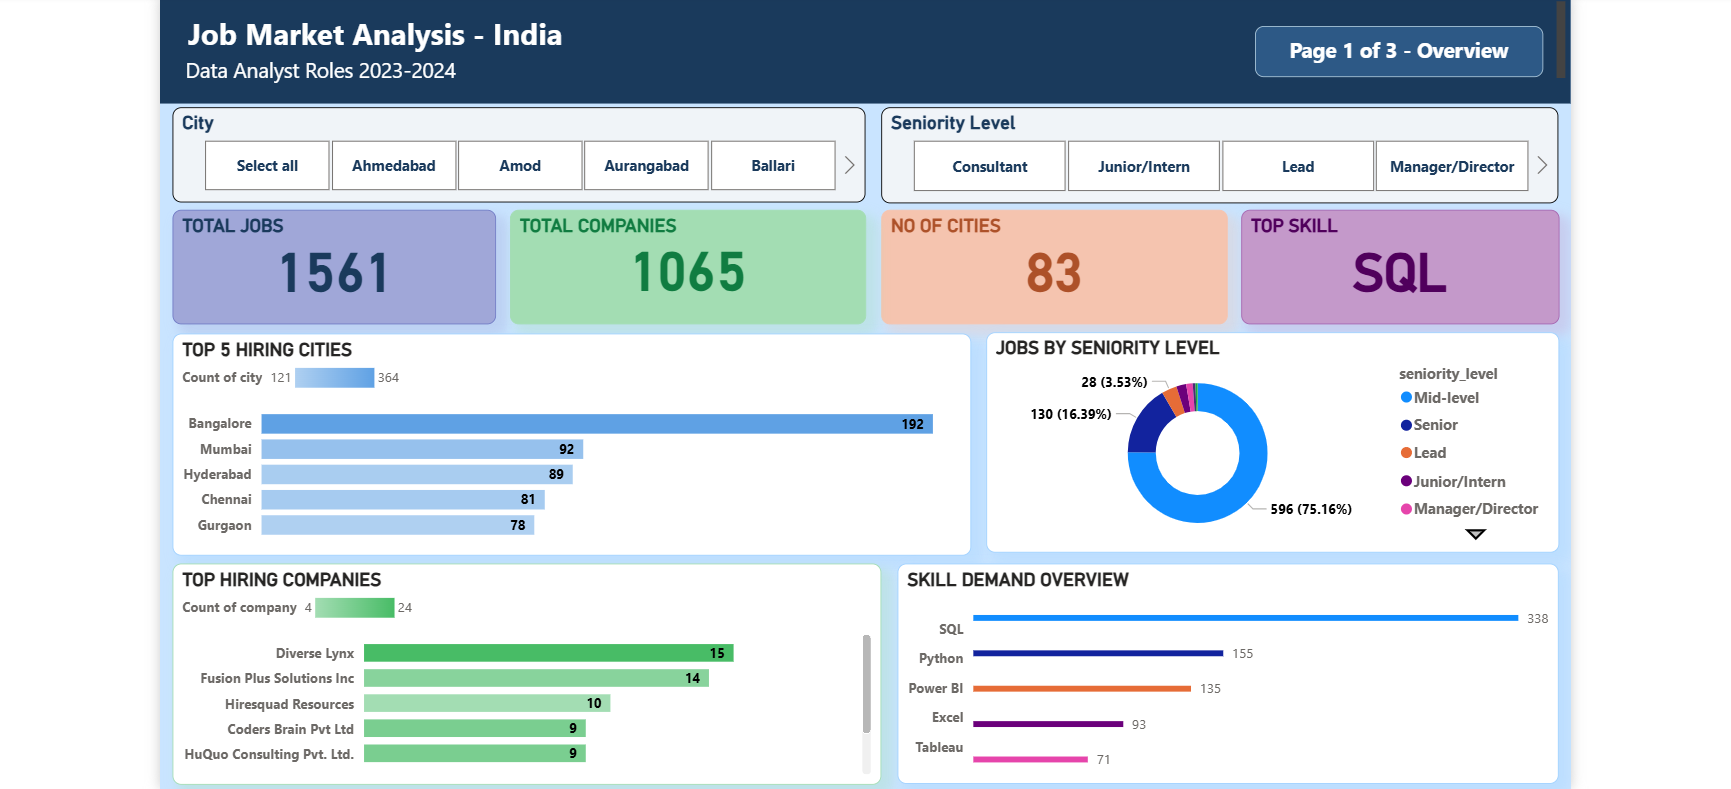

What the dashboard file says about the page in this screenshot:
{"tool":"powerbi","page":{"name":"Overview","canvas":[1280,720],"ordinal":0},"visuals":[{"type":"textbox","box":[0,0,1280,97.3],"z":0,"group":"g1"},{"type":"card","title":"TOTAL JOBS","fields":{"Values":["jobs.Total Jobs"]},"box":[11.7,193.8,294,104.1],"z":1000},{"type":"card","title":"NO OF CITIES","fields":{"Values":["jobs.Total Cities"]},"box":[654.3,193.8,314.8,104.1],"z":2000},{"type":"card","title":"TOTAL COMPANIES","fields":{"Values":["jobs.Total Companies"]},"box":[317.1,194.1,323.4,104],"z":3000},{"type":"card","title":"TOP SKILL ","fields":{"Values":["jobs.Top Skill"]},"box":[980.8,193.8,288.8,104.1],"z":4000},{"type":"slicer","title":"City","fields":{"Values":["jobs.city"]},"box":[11.4,101.5,629.1,86.2],"z":5000},{"type":"clusteredBarChart","title":"TOP 5 HIRING CITIES","fields":{"Category":["jobs.city"],"Y":["jobs.Total Demand"]},"box":[11.7,305.7,724.6,201.6],"z":6000},{"type":"slicer","title":"Seniority Level","fields":{"Values":["jobs.seniority_level"]},"box":[654.4,100.9,614.7,87.3],"z":7000},{"type":"donutChart","title":"JOBS BY SENIORITY LEVEL","fields":{"Category":["jobs.seniority_level"],"Y":["jobs.Total Demand"]},"box":[749.6,305.7,520,200.4],"z":8000},{"type":"clusteredBarChart","title":"TOP HIRING COMPANIES","fields":{"Category":["jobs.company"],"Y":["jobs.Total Demand"]},"box":[11.3,514.9,643.1,200.8],"z":9000},{"type":"clusteredBarChart","title":"SKILL DEMAND OVERVIEW","fields":{"Category":["skills.skillName"],"Y":["jobs.Total Demand"],"Series":["skills.skillName"]},"box":[669.7,514.9,599.9,200.4],"z":10000},{"type":"textbox","box":[993.3,26.7,261.3,46.7],"z":11000,"group":"g1"},{"type":"group","id":"g1","title":"Group 1","box":[0,0,1280,97.3],"z":11001}]}

Visuals, with their boxes on the page's 1280x720 design canvas (x1, y1, x2, y2). These are canvas units, not pixel positions in the 1731x789 screenshot, which may show the page scaled, cropped or inside an application window:
textbox: (0,0,1280,97)
"TOTAL JOBS" card: (12,194,306,298)
"NO OF CITIES" card: (654,194,969,298)
"TOTAL COMPANIES" card: (317,194,640,298)
"TOP SKILL " card: (981,194,1270,298)
"City" slicer: (11,102,640,188)
"TOP 5 HIRING CITIES" clusteredBarChart: (12,306,736,507)
"Seniority Level" slicer: (654,101,1269,188)
"JOBS BY SENIORITY LEVEL" donutChart: (750,306,1270,506)
"TOP HIRING COMPANIES" clusteredBarChart: (11,515,654,716)
"SKILL DEMAND OVERVIEW" clusteredBarChart: (670,515,1270,715)
textbox: (993,27,1255,73)
"Group 1" group: (0,0,1280,97)
